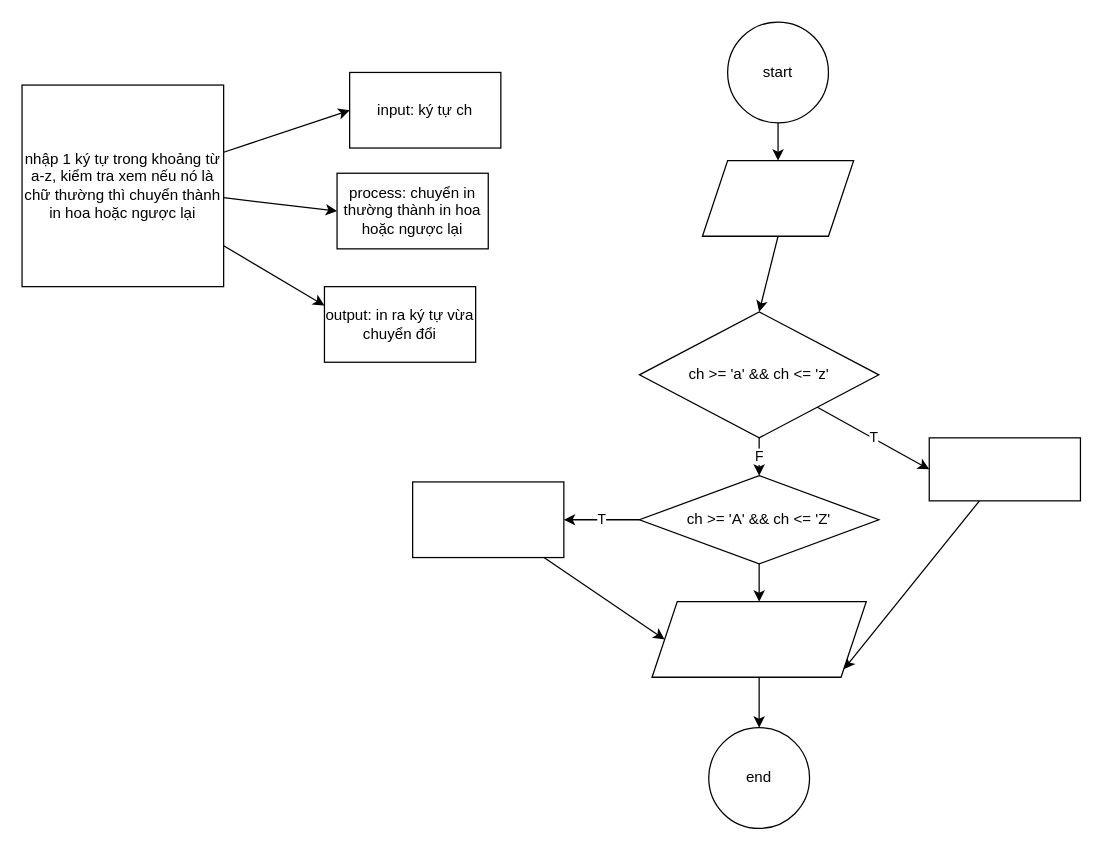
This 1103x851 diagram has some shape labels left out. Here are the shapes that lost their labels. From the top down, the box of each, then its label:
(701, 159, 854, 236): input: ch
(928, 437, 1080, 501): ch = ch - 32
(411, 481, 564, 558): ch = ch + 32
(651, 600, 866, 677): print: Ky tu sau khi doi la: ch
